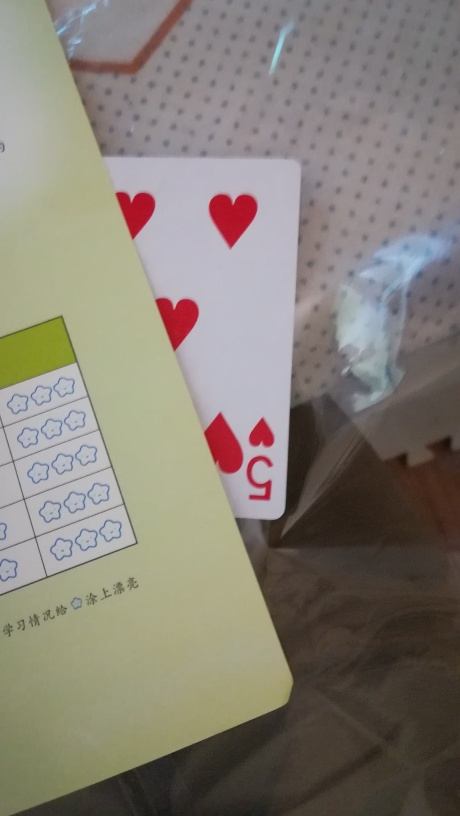hx 5: (98, 155, 302, 531)
